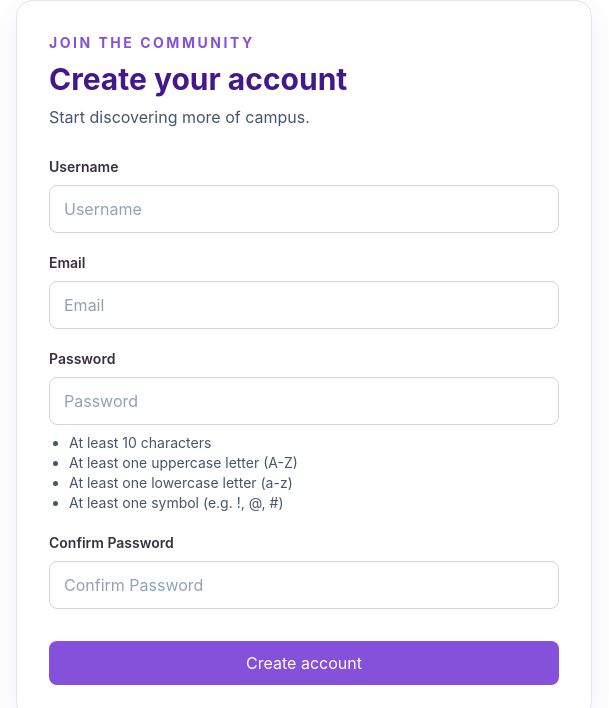
Test: rejects invalid password lowercase! with a reason
Type "Alice" into the field labelled "Username".
click(304, 209); type("Alice")  # box x1=49 y1=185 x2=559 y2=233
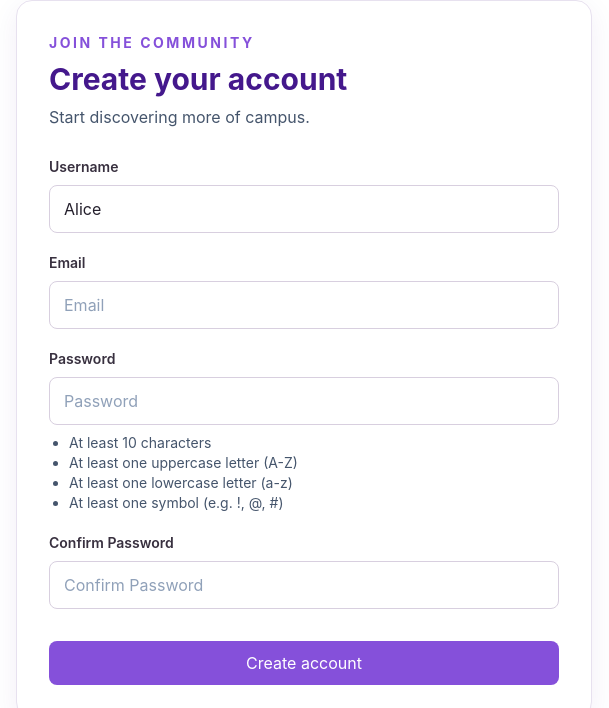
Type "alice@example.com" into the field labelled "Email".
click(304, 305); type("alice@example.com")  # box x1=49 y1=281 x2=559 y2=329
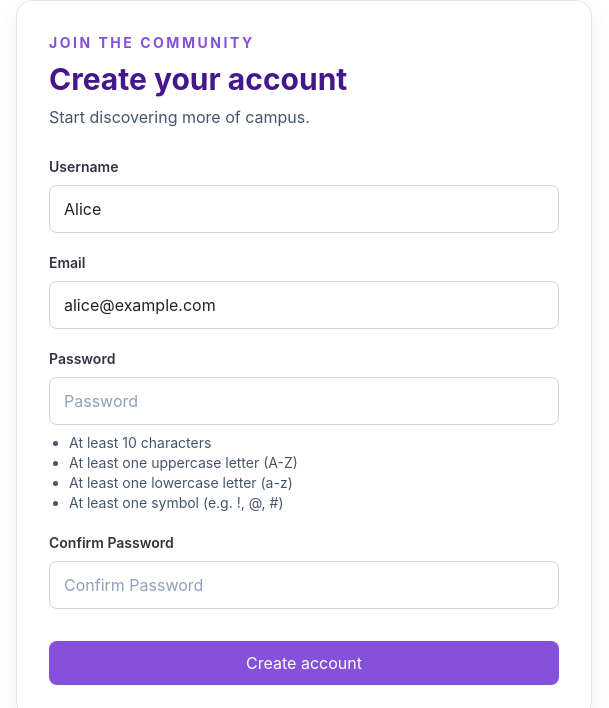
Type "lowercase!" into the password field labelled "Password".
click(304, 401); type("lowercase!")  # box x1=49 y1=377 x2=559 y2=425
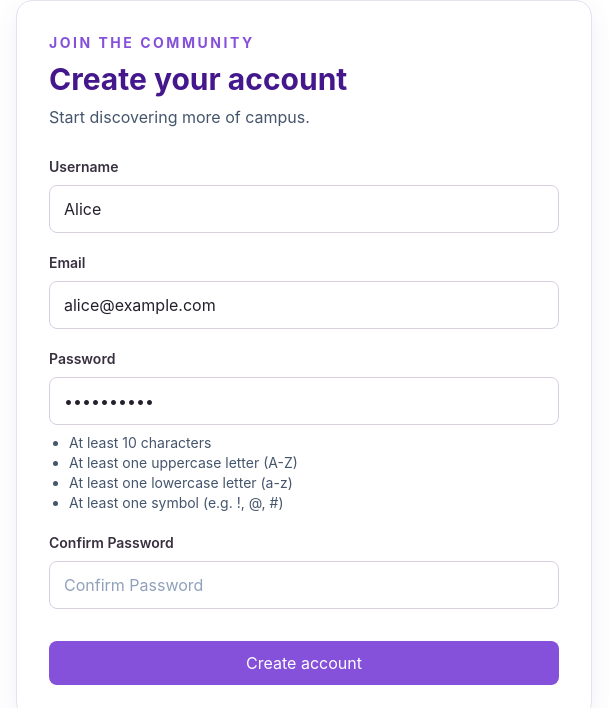
Type "lowercase!" into the password field labelled "Confirm Password".
click(304, 585); type("lowercase!")  # box x1=49 y1=561 x2=559 y2=609
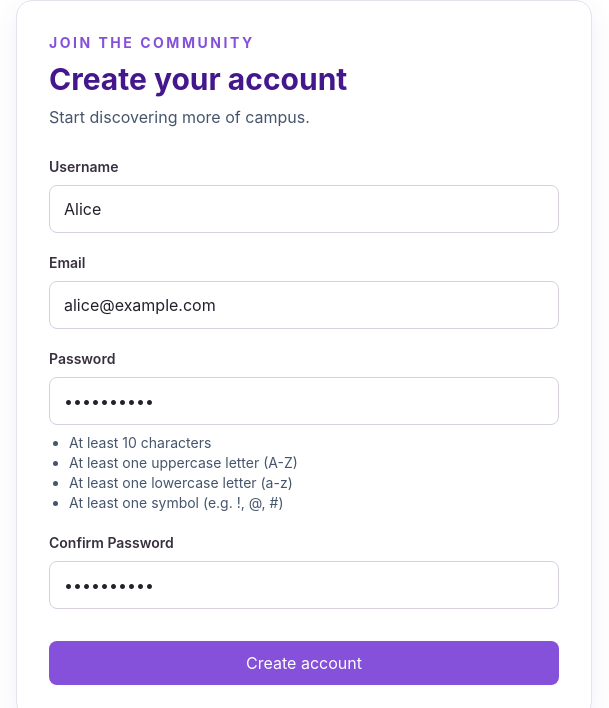
Click the button "Create account".
click(304, 663)  # box x1=49 y1=641 x2=559 y2=685
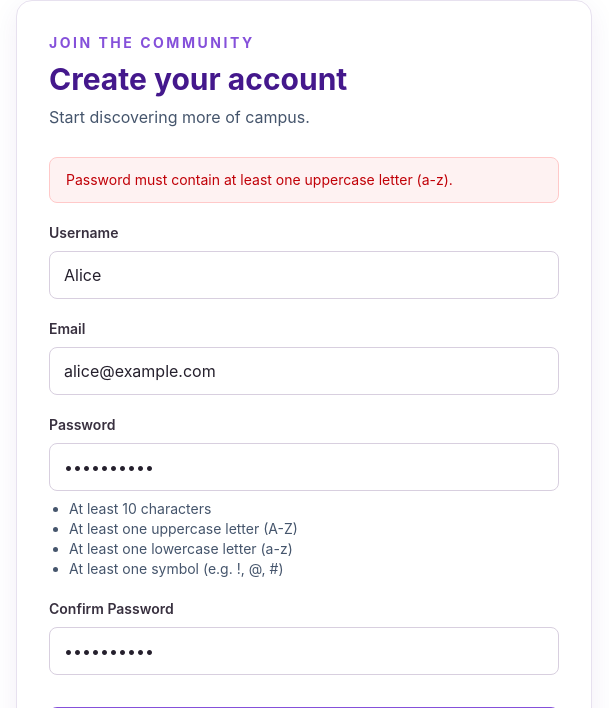
Now the message shows "uppercase letter", box x1=66 y1=171 x2=453 y2=188
